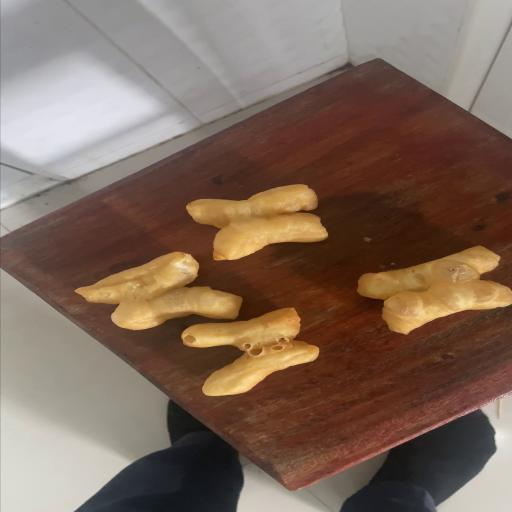street_golden_defect: (357, 248, 510, 333), (74, 252, 244, 328), (180, 310, 318, 396)
street_golden_good: (187, 184, 328, 258)
